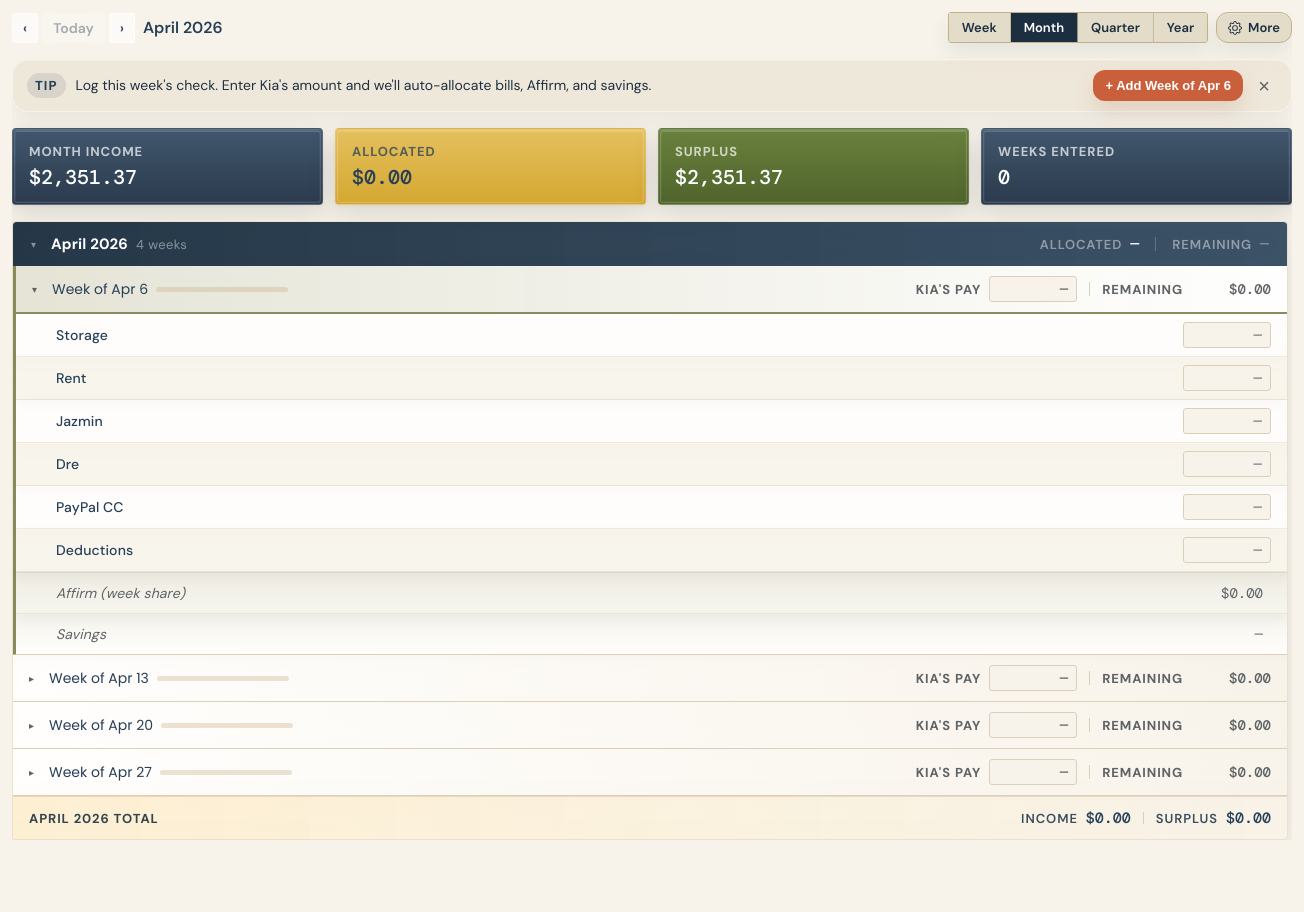
Test: PaycheckTab — navigation › navigates to today (handleNavToday monthly)
The image size is (1304, 912).
# Navigate away first, then back
What coordinates should you click on to do the following:
click the button named "Previous month"
I would click on:
 (25, 28)
Its box is [12, 12, 38, 42].
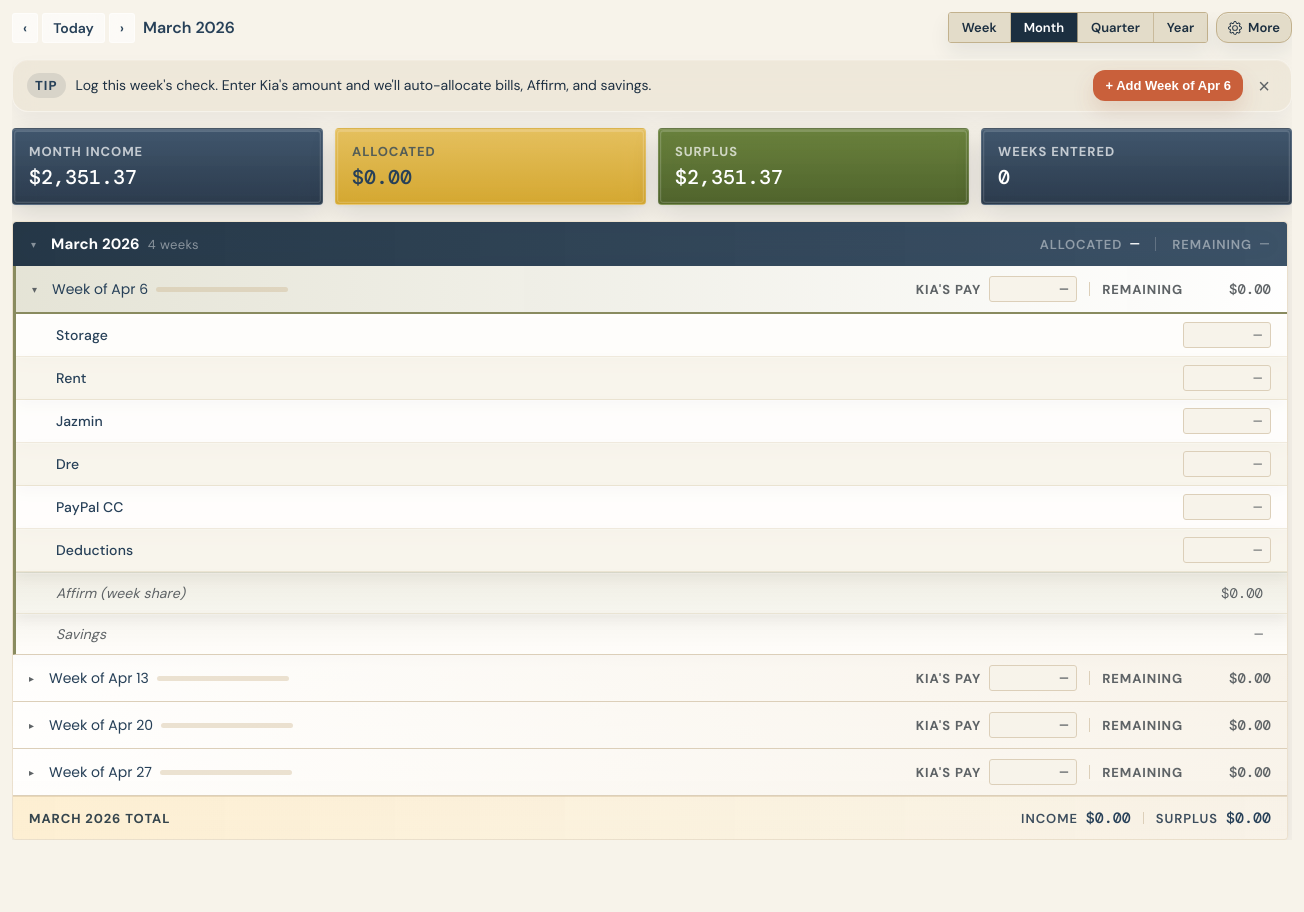
What coordinates should you click on to do the following:
click the button "Today"
I would click on:
 (73, 28)
Its box is [42, 12, 105, 42].
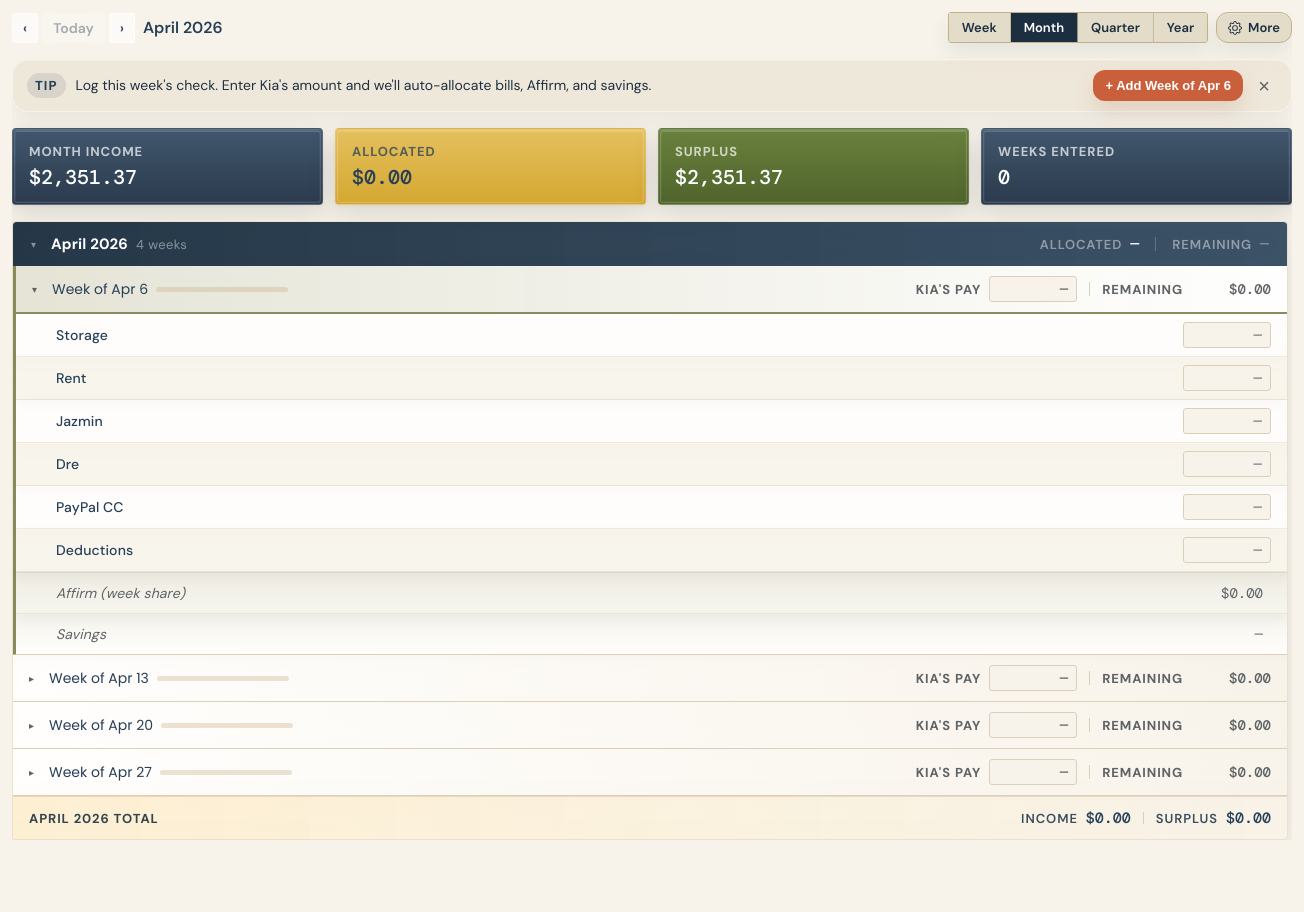
Expected: the heading "April 2026" is shown, [143, 17, 223, 38]
